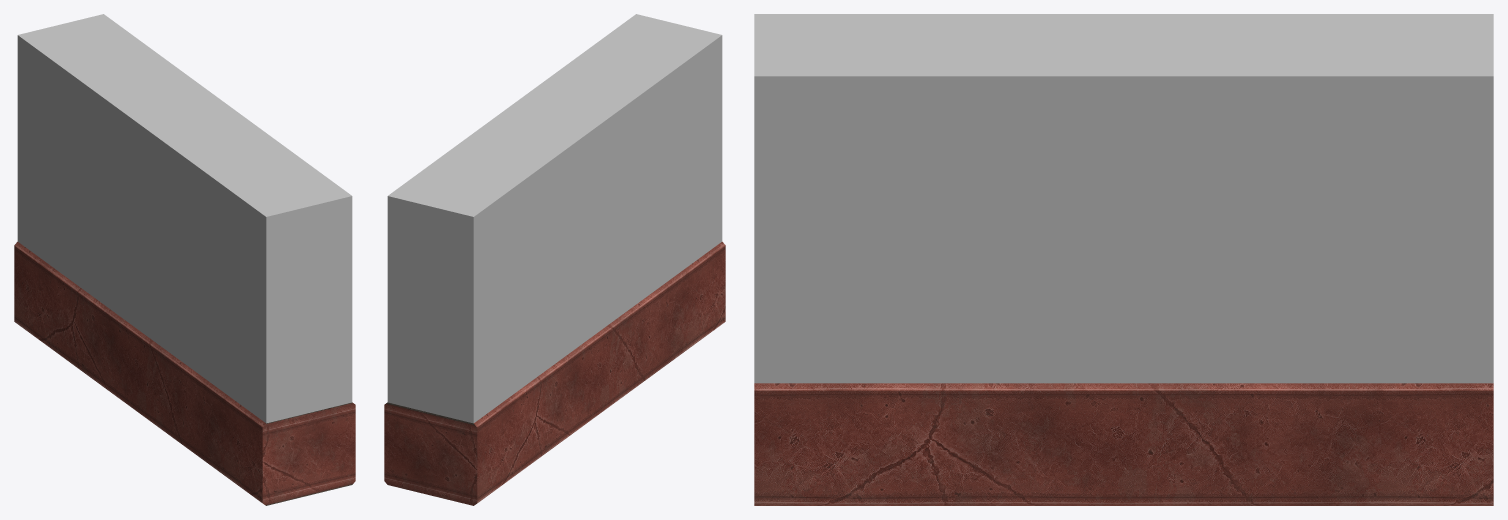
Rendered from AlleywayWallD.fbx.
3 renders of one model, left to right at view 1: azimuth 30°, elevation 25°; view 2: azimuth 150°, elevation 25°; view 3: azimuth 270°, elevation 25°, orthographic. The views are drawn at different scales.
Parts seen in each view (by area): view 1: AlleywayWallD; view 2: AlleywayWallD; view 3: AlleywayWallD.
Boxes of the visible parts, box(x1,y1,x2,y2) form: AlleywayWallD: box(14, 14, 355, 505); AlleywayWallD: box(384, 14, 725, 505); AlleywayWallD: box(754, 14, 1493, 505).
Size of the model in its own units: 540 by 1603 by 2500.
